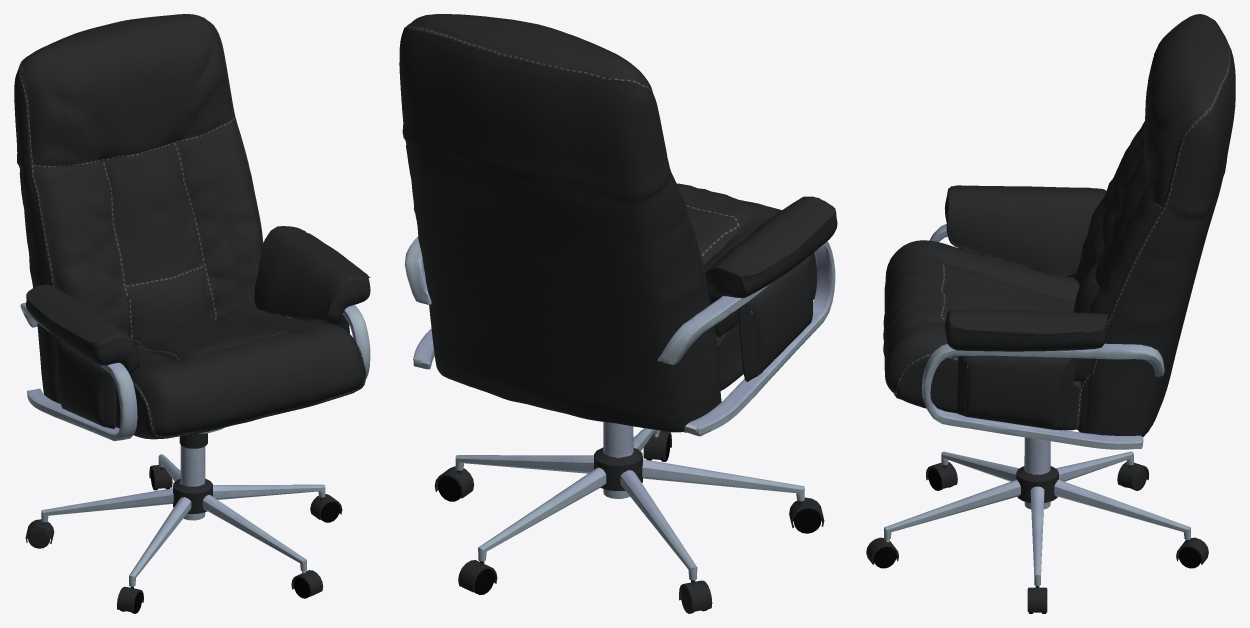
Rendered from chairmans_chair__20mb.glb.
3 views of the same model, side by side, from view 1: azimuth 30°, elevation 25°; view 2: azimuth 150°, elevation 25°; view 3: azimuth 270°, elevation 25° (orthographic). The views are drawn at different scales.
Parts seen in each view (by area): view 1: Remesh, scene__0; view 2: Remesh, scene__0; view 3: Remesh, scene__0.
Part boxes in pixels (left/top/right/bottom): Remesh: left=14, top=14, right=370, bottom=448; scene__0: left=25, top=445, right=342, bottom=613; Remesh: left=399, top=14, right=837, bottom=436; scene__0: left=434, top=422, right=824, bottom=613; Remesh: left=883, top=14, right=1235, bottom=449; scene__0: left=866, top=437, right=1208, bottom=613.
Bounding box in the file's own units: 86.03 × 134 × 90.39.
Materials: 1 (1 with a texture image).
